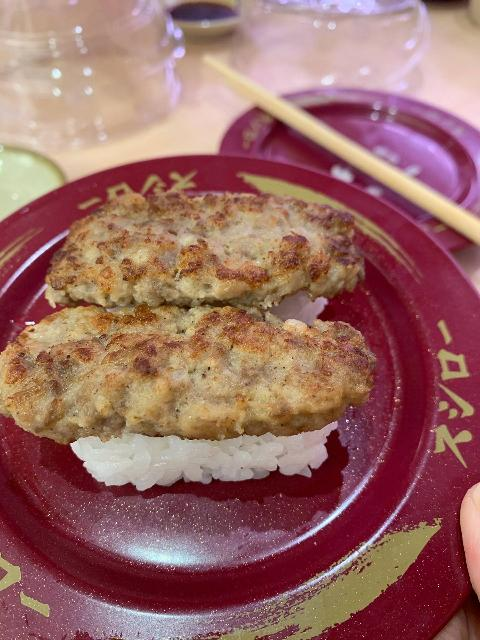janred: (12, 171, 460, 639), (231, 78, 478, 240)
